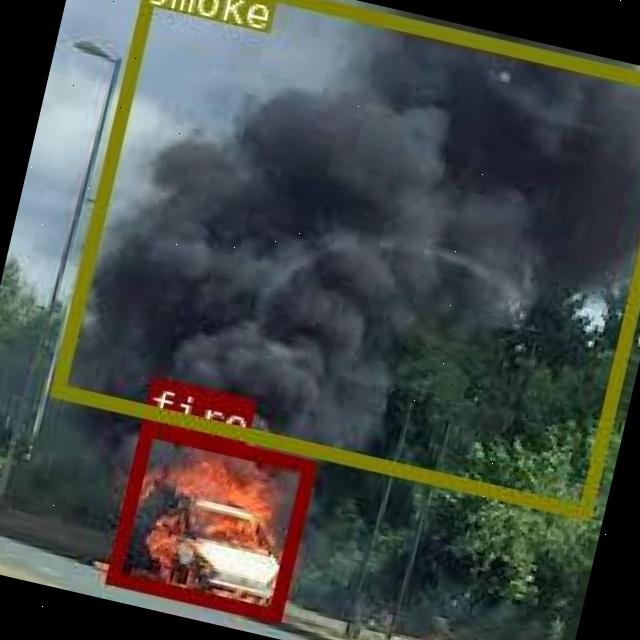fire: (105, 420, 314, 620)
smoke: (48, 0, 640, 517)
